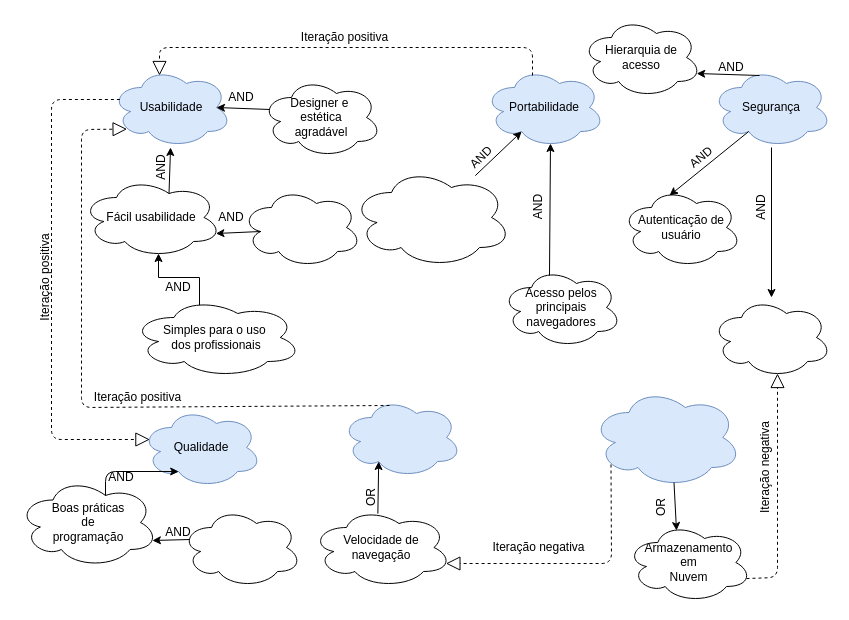
Some shapes in this 849 by 620 pixel diagram are drawn without their labels. The centre of each missing label's shape, as x and y in pixels:
Acesso por qualquer dispositivo com browser: (x=431, y=217)
Código limpo: (x=241, y=547)
Desempenho: (x=401, y=437)
Interoperabilidade: (x=666, y=437)
Rápido Aprendizado: (x=301, y=227)
Segurança das informações: (x=771, y=337)
